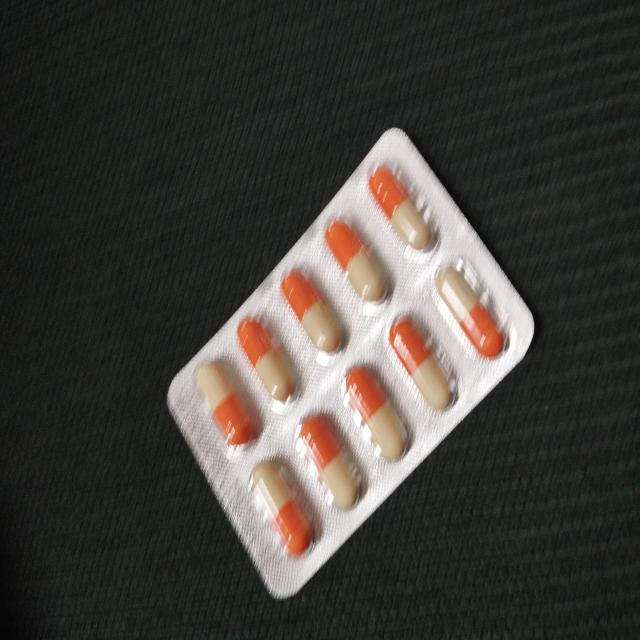B3: (167, 123, 536, 590)
